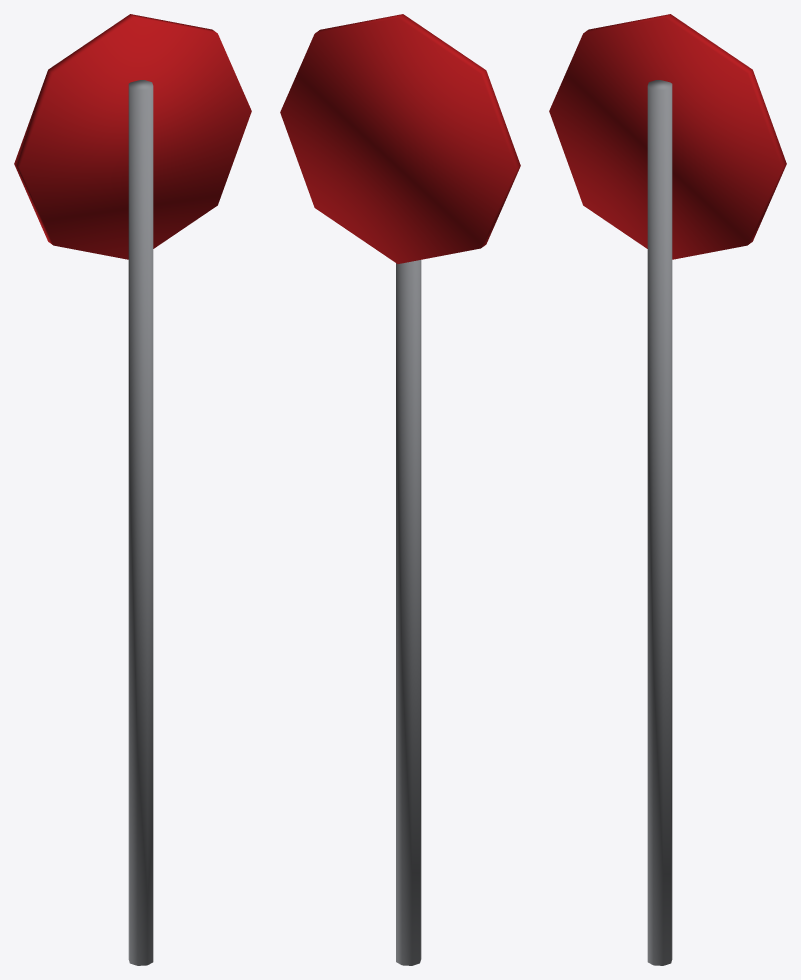
Rendered from m_stop.fbx.
3 renders of one model, left to right at view 1: azimuth 30°, elevation 25°; view 2: azimuth 150°, elevation 25°; view 3: azimuth 330°, elevation 25°, orthographic.
Visible parts, largest first — view 1: m_stop; view 2: m_stop; view 3: m_stop.
Part boxes in pixels (box(x1,y1,x2,y2)): m_stop: box(14, 14, 251, 965); m_stop: box(280, 14, 520, 965); m_stop: box(549, 14, 786, 965).
Size of the model in its own units: 250 by 965 by 32.
